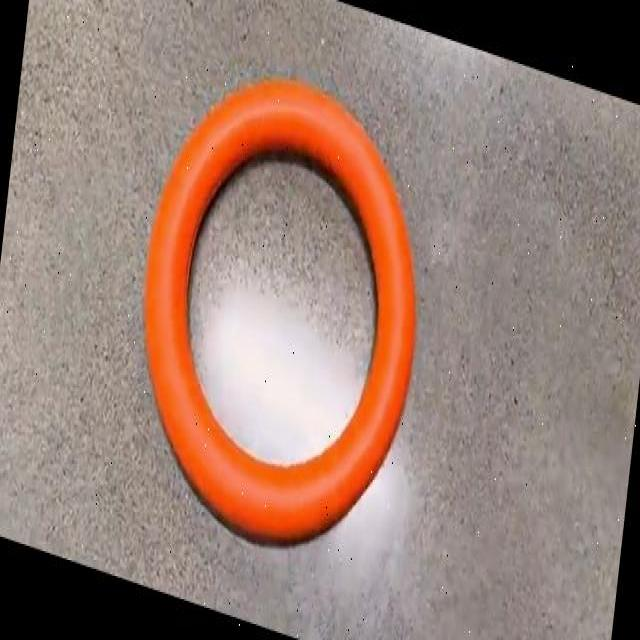note: (145, 80, 416, 541)
